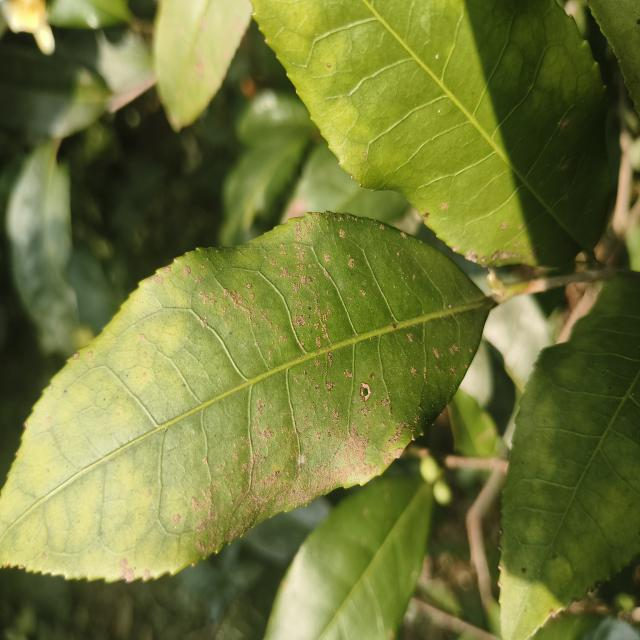Leaf: (0, 214, 492, 580), (253, 0, 609, 266), (500, 275, 640, 640), (265, 473, 433, 640), (6, 140, 79, 355), (154, 0, 252, 130), (0, 40, 111, 139), (282, 141, 408, 224), (237, 89, 315, 145)
